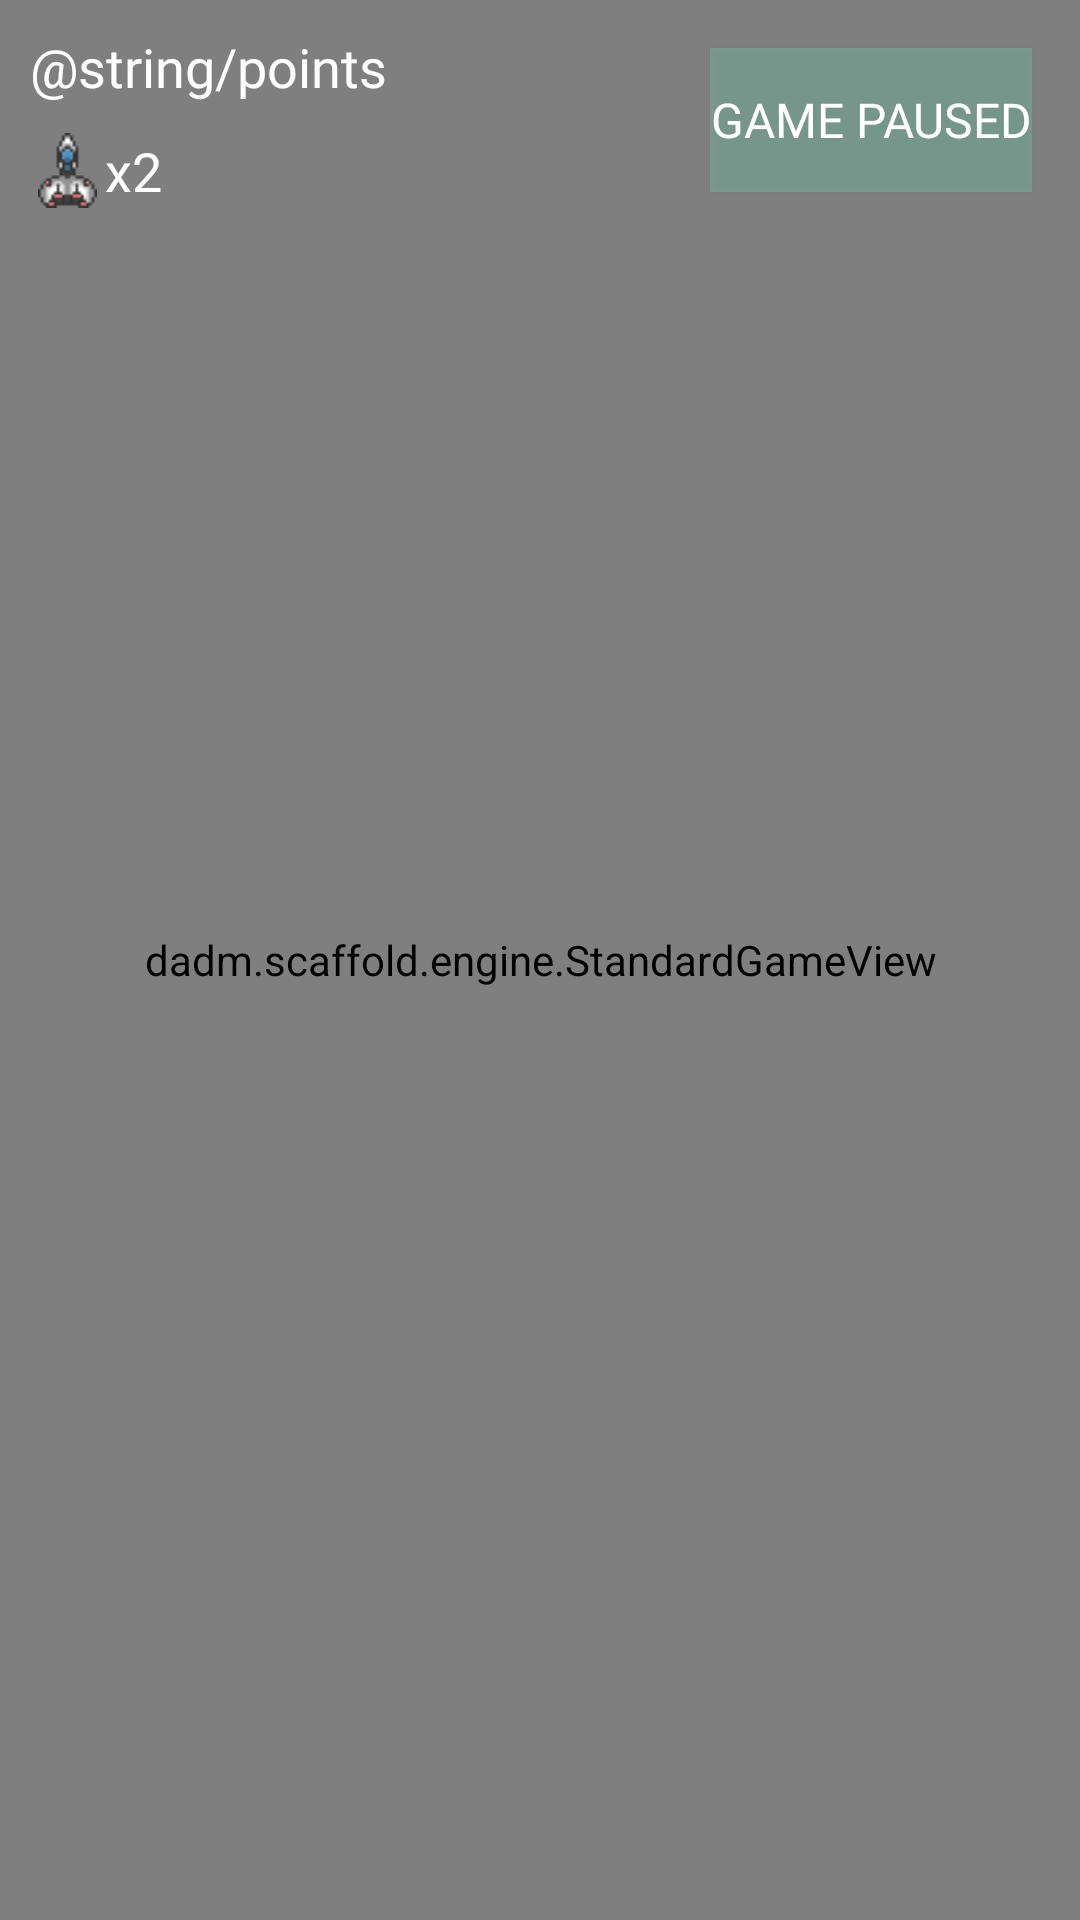

Named icons in this screenshot (1080x1920) and their bounding boxes, [x1=x1, y1=y1, x2=x2, y2=y2]:
ship: [x1=38, y1=133, x2=97, y2=208]
